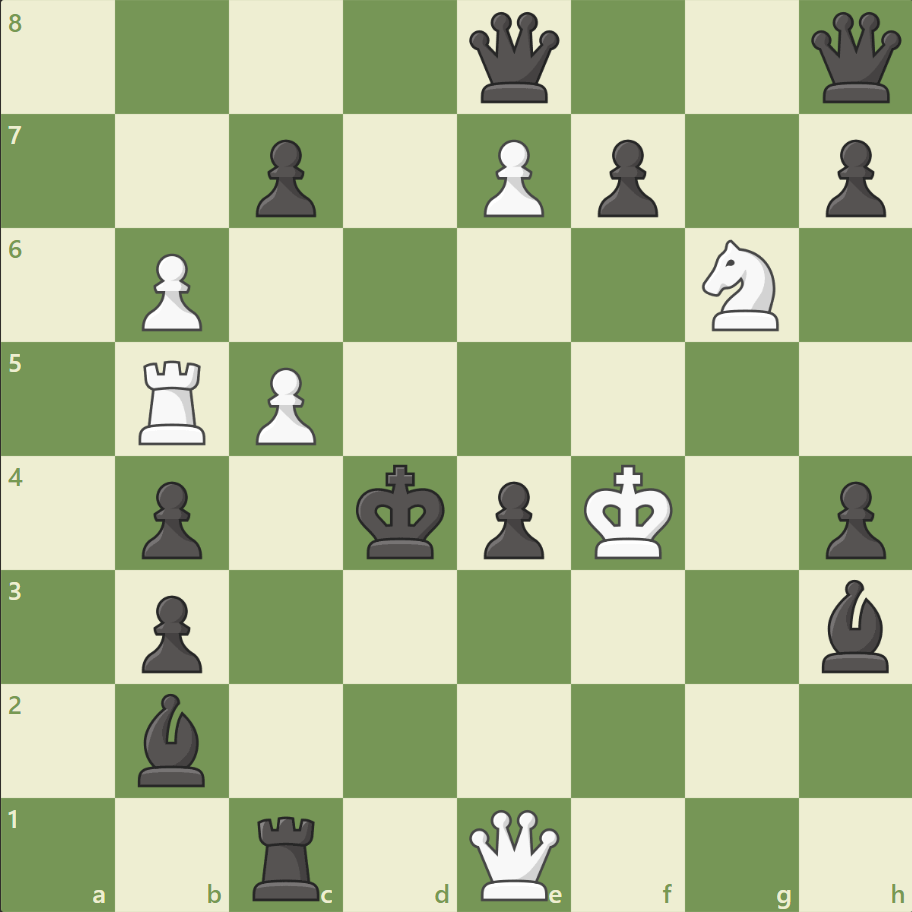K: (579, 458, 679, 566)
N: (692, 234, 789, 337)
P: (474, 132, 549, 223), (133, 246, 208, 337), (247, 359, 322, 450)
Q: (464, 804, 563, 903)
R: (133, 352, 215, 449)
b: (131, 687, 215, 790), (812, 574, 896, 676)
k: (351, 458, 451, 566)
p: (247, 132, 322, 223), (133, 473, 208, 564), (474, 473, 549, 564), (133, 586, 208, 677), (588, 132, 662, 223), (815, 132, 889, 223), (815, 473, 889, 564)
q: (464, 9, 563, 108), (805, 9, 904, 108)
r: (246, 806, 329, 904)
